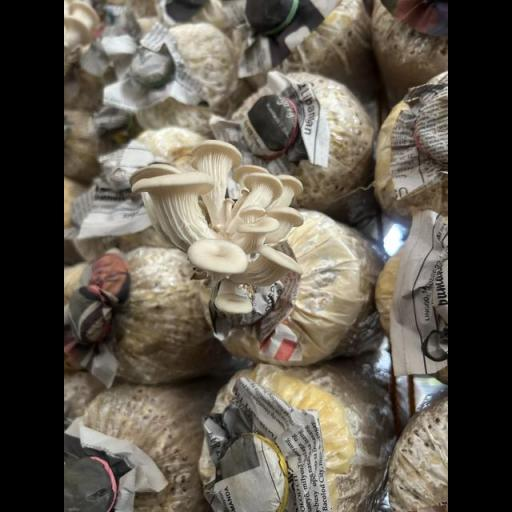White Oyster Mushroom: (125, 130, 317, 322)
